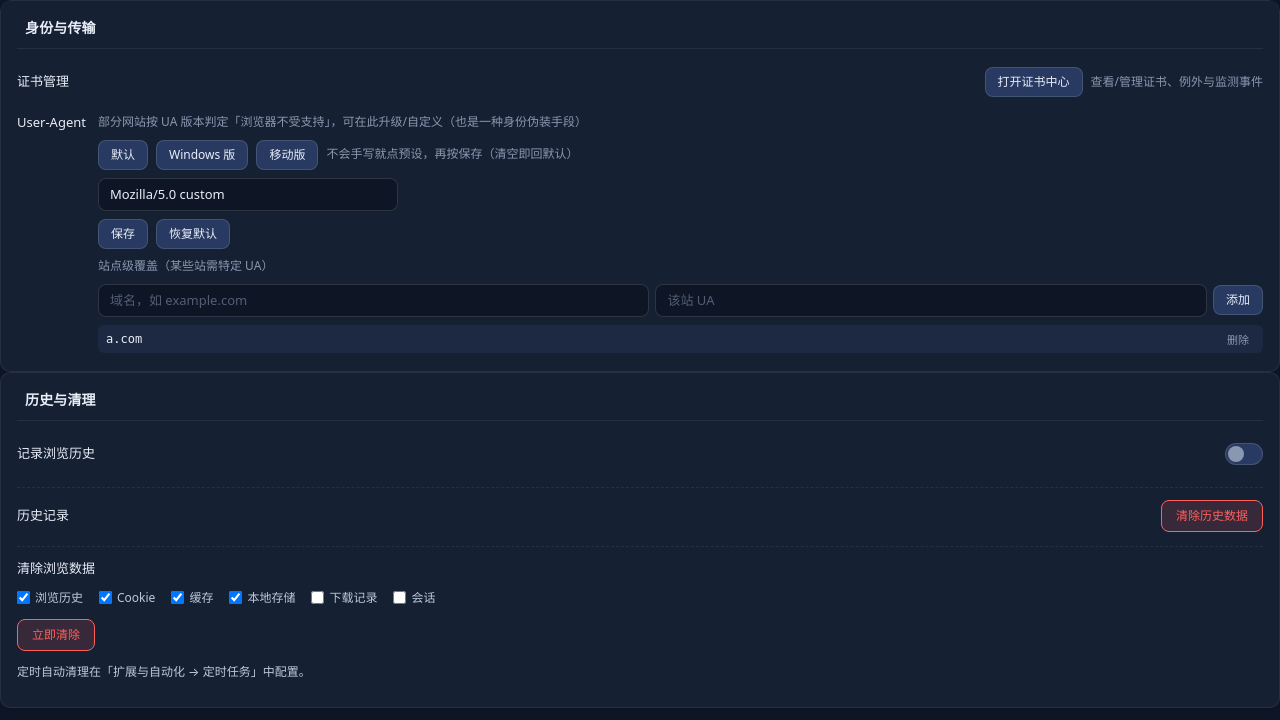
Test case: PrivacyDataCard · 历史与清理 › 全不选 → 「请至少选择一项」不调命令
What coordinates should you click on to do the following:
click the checkbox labelled "浏览历史"
I would click on:
 (24, 598)
Its box is [17, 591, 30, 604].
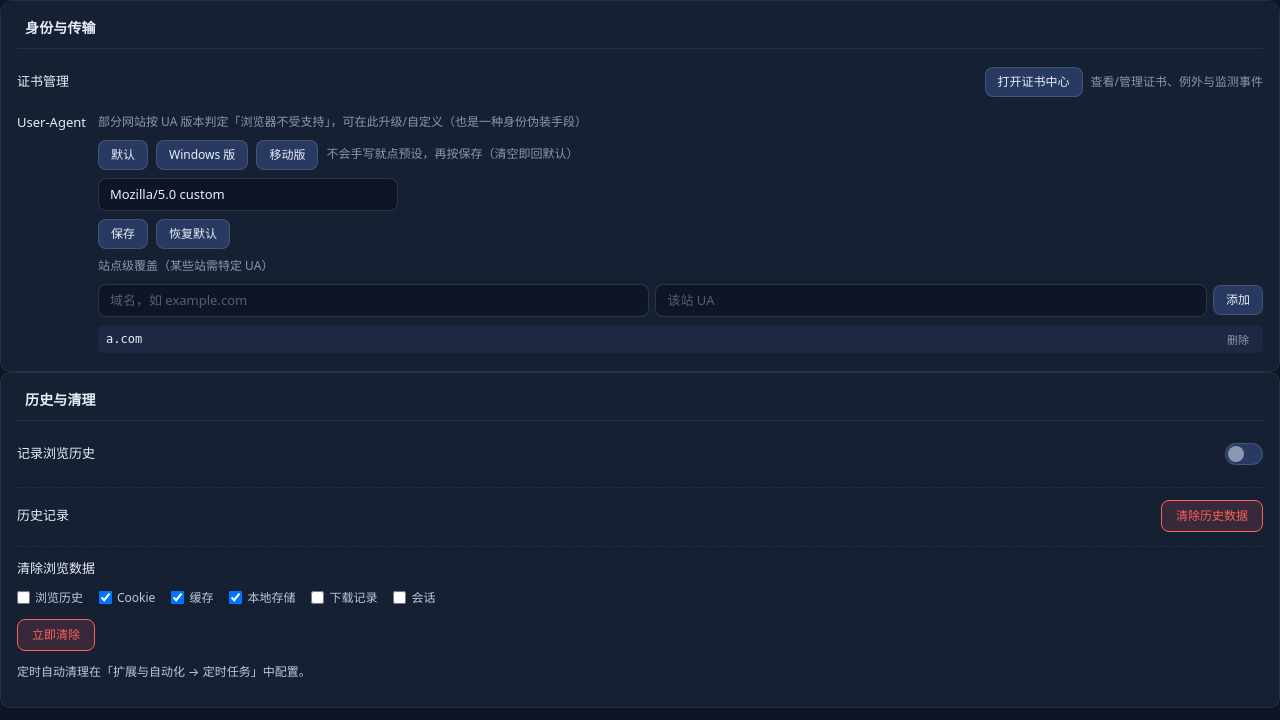
What coordinates should you click on to do the following:
click the checkbox labelled "Cookie"
I would click on:
 (106, 598)
Its box is [99, 591, 112, 604].
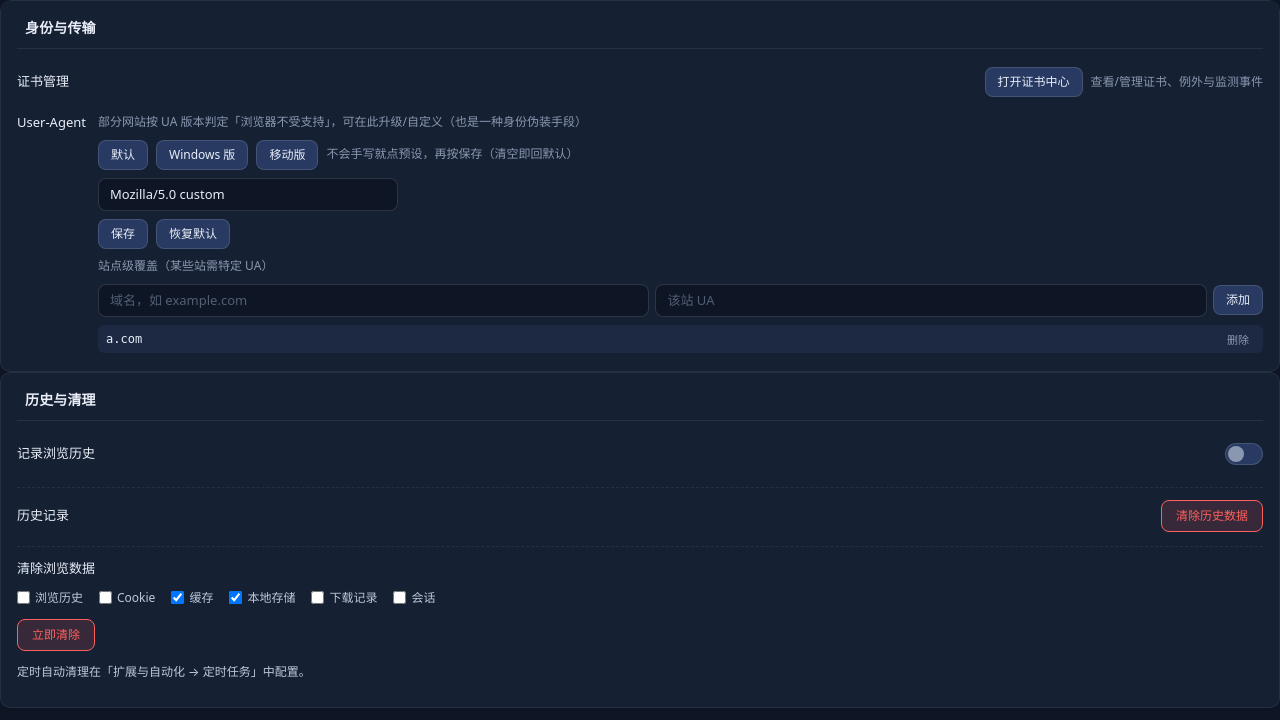
What coordinates should you click on to do the following:
click the checkbox labelled "缓存"
I would click on:
 (178, 598)
Its box is [171, 591, 184, 604].
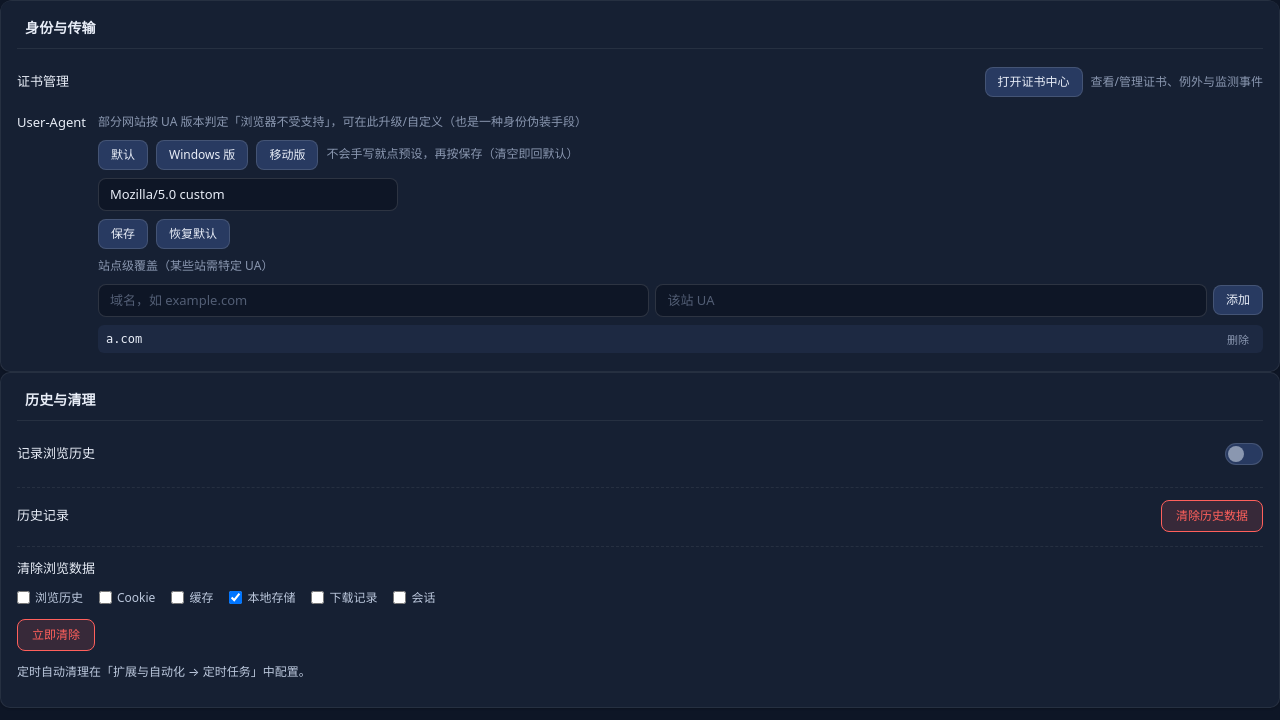
What coordinates should you click on to do the following:
click the checkbox labelled "本地存储"
I would click on:
 (236, 598)
Its box is [229, 591, 242, 604].
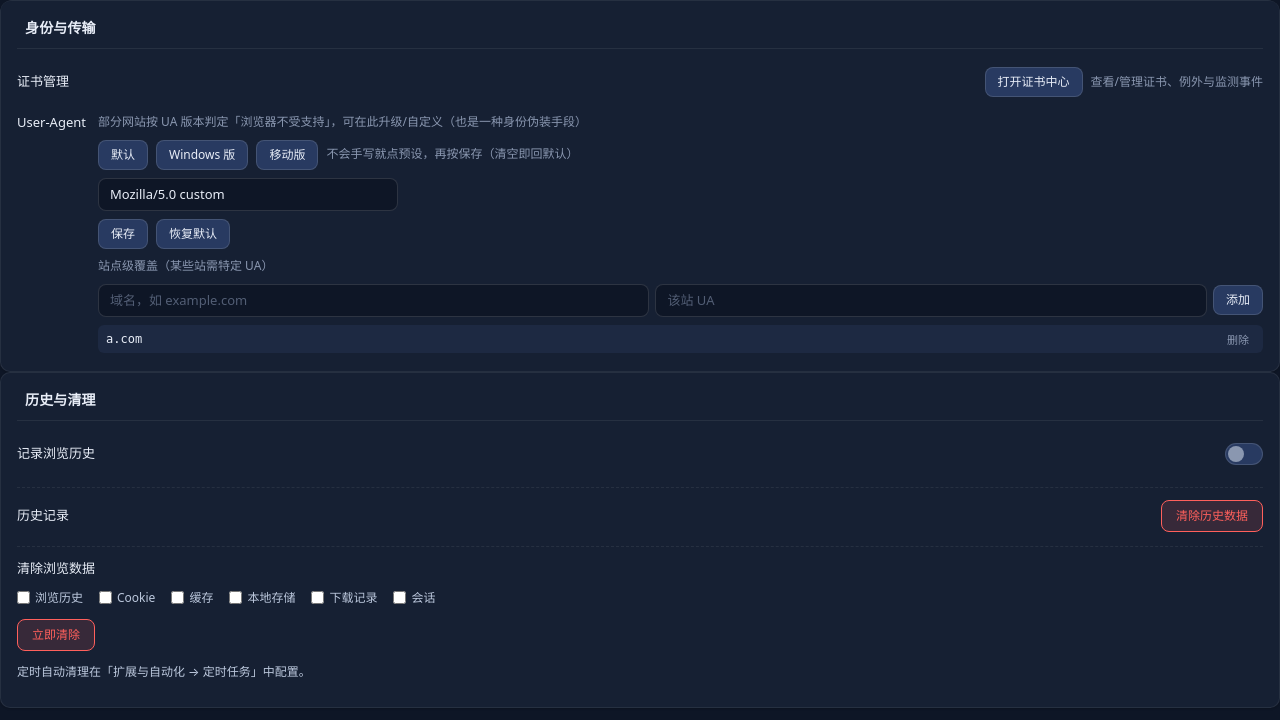
What coordinates should you click on to do the following:
click the button with class "danger-btn" showing "立即清除"
I would click on:
 (56, 635)
Its box is [17, 619, 95, 651].
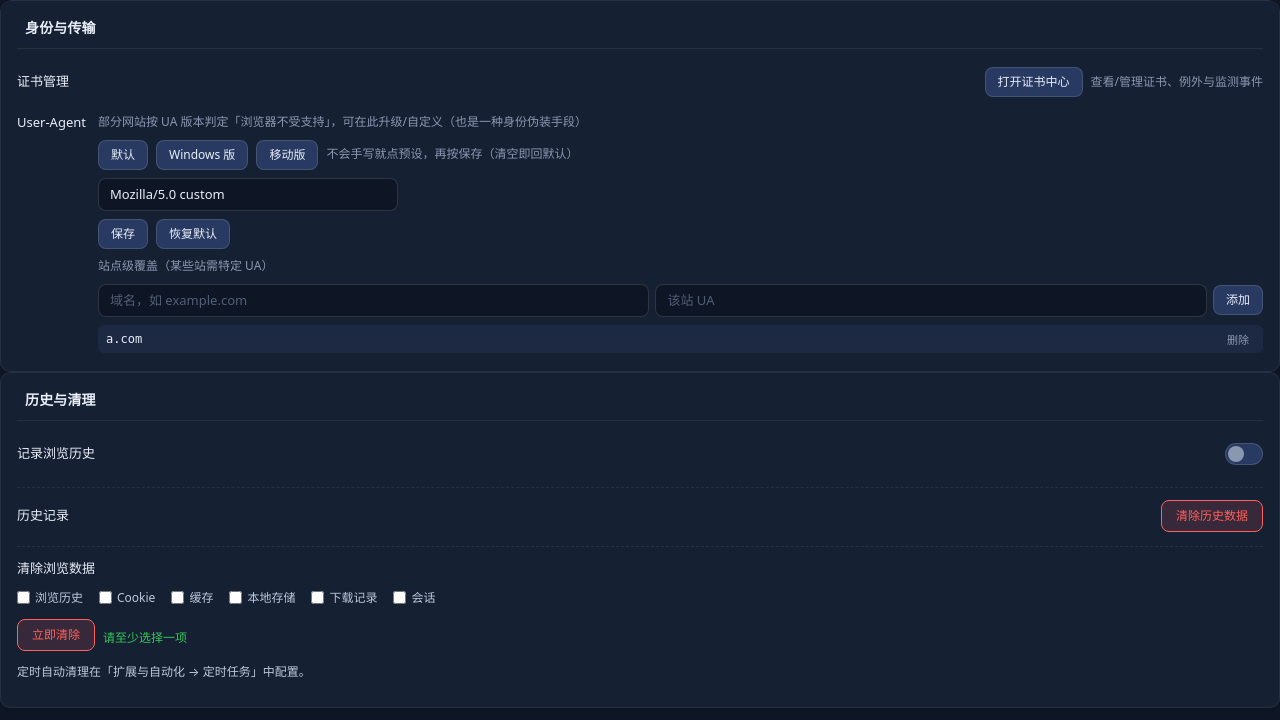
Now the text "请至少选择一项" is shown, box [103, 629, 187, 647]
